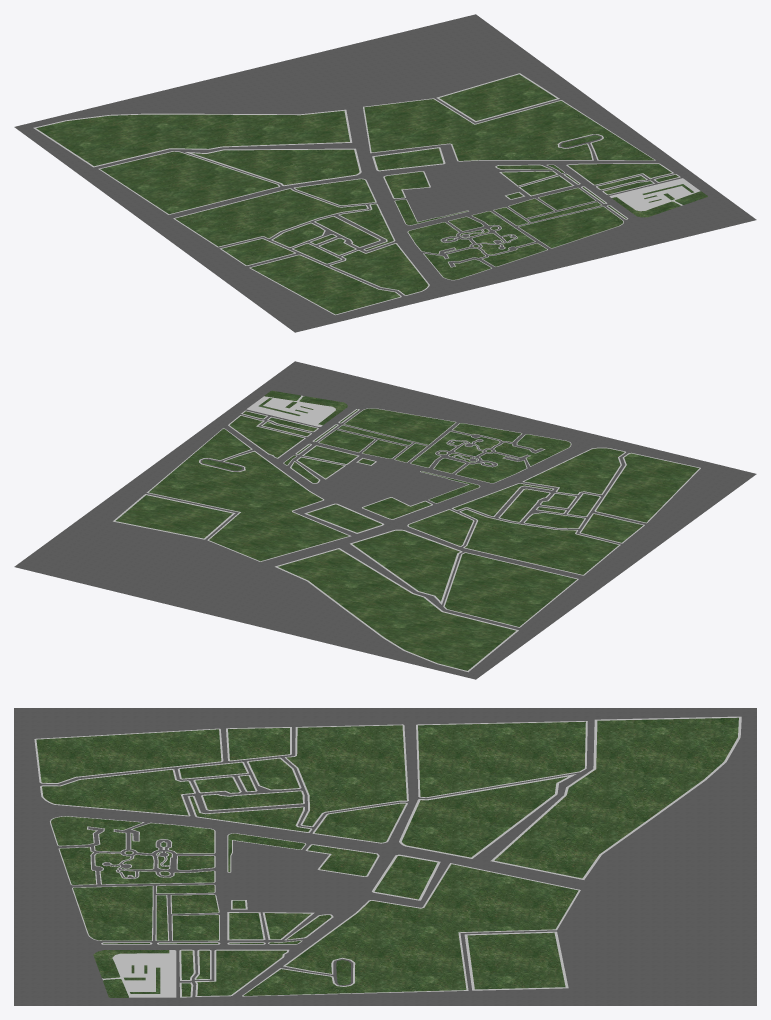
The model's file is dixing_new.FBX.
The picture shows the model from 3 angles, top to bottom: view 1: azimuth 30°, elevation 25°; view 2: azimuth 150°, elevation 25°; view 3: azimuth 270°, elevation 25°; orthographic projection. The views are drawn at different scales.
Visible parts, largest first — view 1: Object22719, Plane162, Object22722, Object22724, Object22717, Object22816; view 2: Object22719, Plane162, Object22722, Object22724, Object22717, Object22816; view 3: Object22719, Plane162, Object22722, Object22724, Object22717, Object22816, Object22815.
Part boxes in pixels (x1,y1,x2,y2): Object22719: [36, 74, 707, 314]; Plane162: [14, 14, 756, 332]; Object22722: [98, 98, 680, 315]; Object22724: [394, 164, 623, 280]; Object22717: [33, 73, 559, 185]; Object22816: [609, 178, 700, 207]; Object22719: [116, 390, 699, 670]; Plane162: [14, 361, 756, 679]; Object22722: [146, 409, 700, 627]; Object22724: [283, 408, 571, 503]; Object22717: [113, 494, 518, 672]; Object22816: [246, 395, 324, 426]; Object22719: [36, 717, 738, 997]; Plane162: [14, 708, 756, 1005]; Object22722: [34, 721, 587, 997]; Object22724: [50, 816, 306, 944]; Object22717: [399, 716, 741, 990]; Object22816: [102, 950, 176, 997]; Object22815: [112, 953, 158, 964].
Bounding box in the file's own units: 1258 × 0.1001 × 1326.
